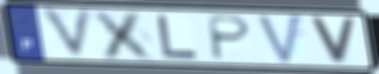L: (154, 13, 202, 60)
P: (207, 14, 255, 62)
V: (38, 7, 97, 62), (306, 15, 359, 67), (254, 13, 305, 67)
X: (90, 9, 160, 61)
